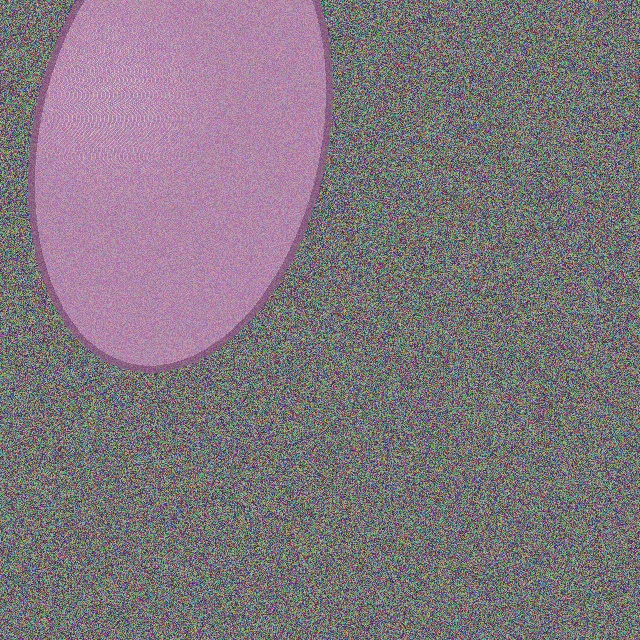lens: (31, 0, 329, 367)
